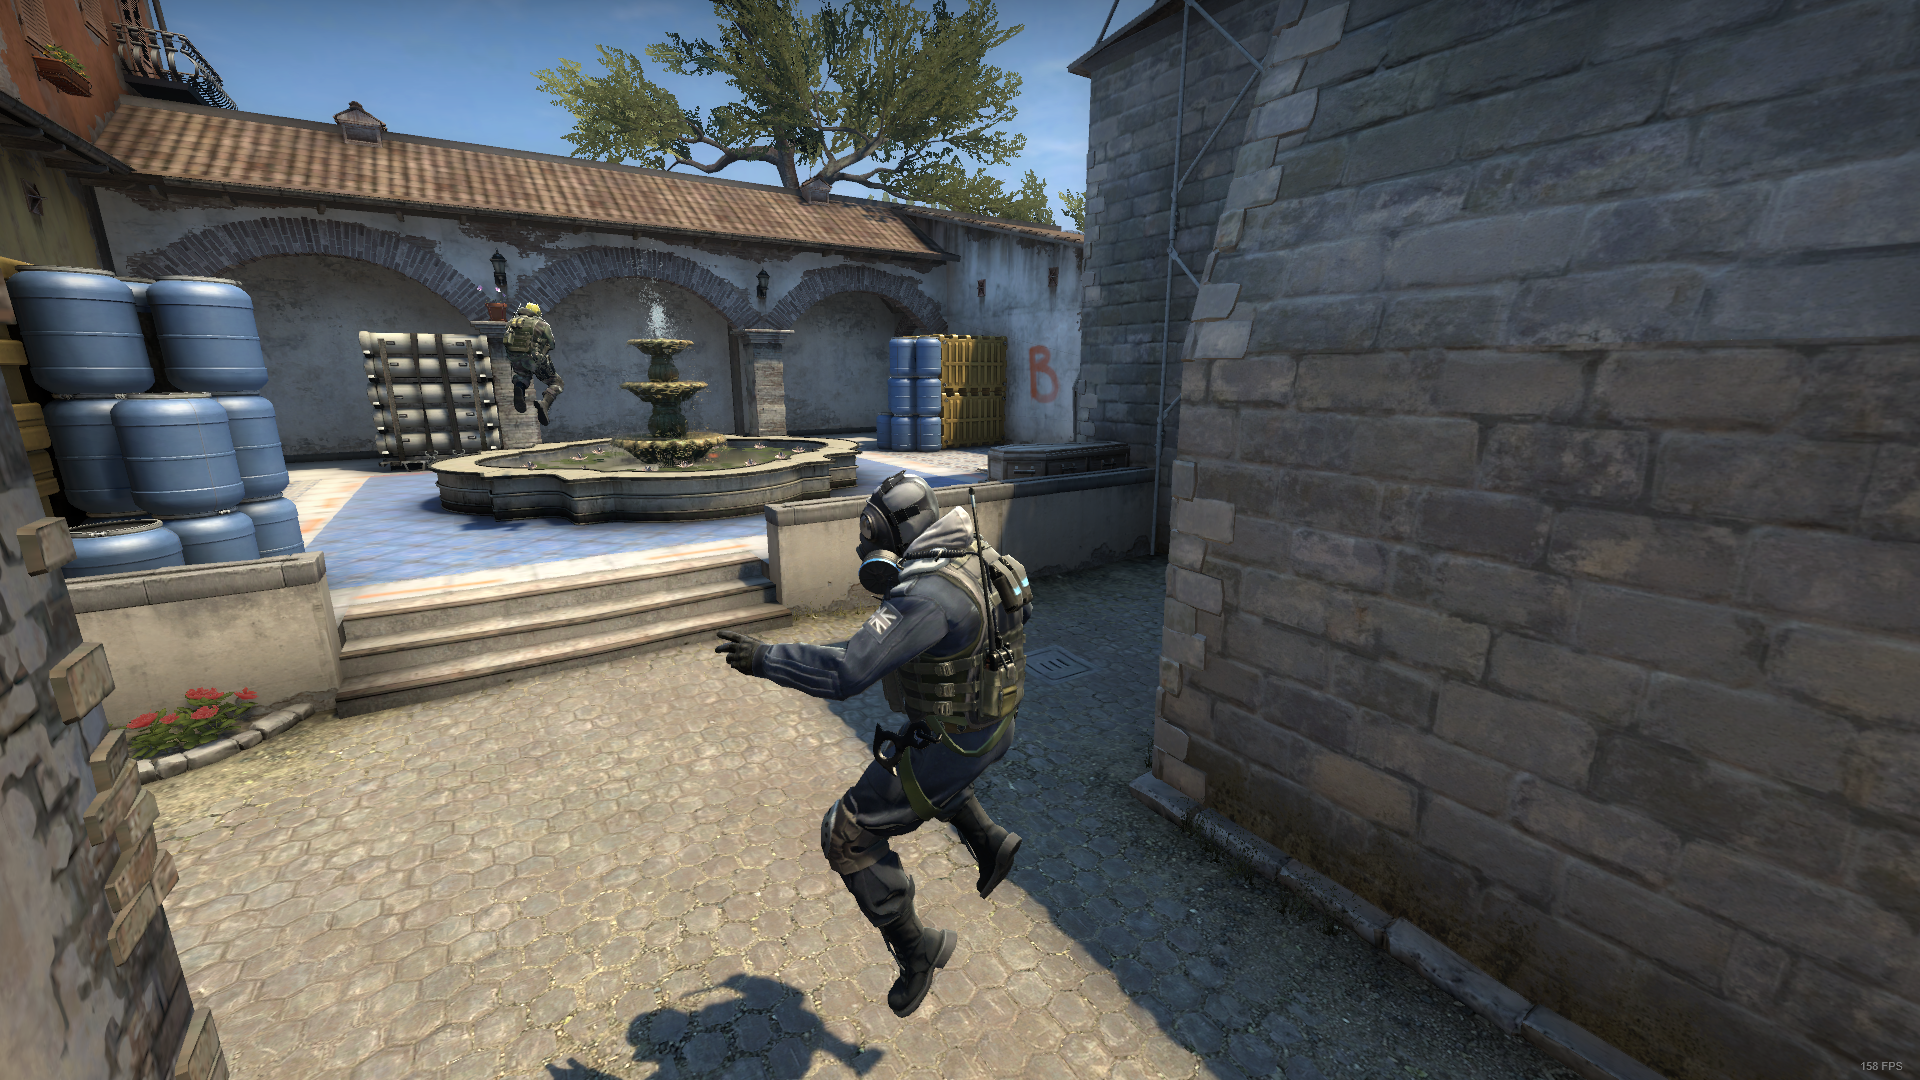ct: (716, 473, 1096, 1023)
